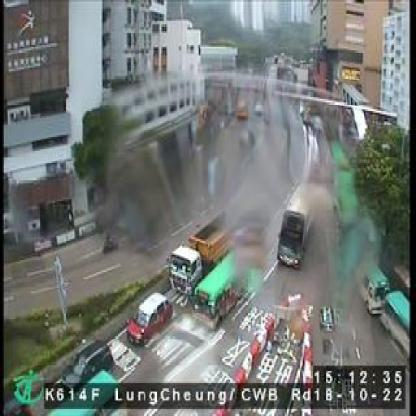Bus: (278, 178, 320, 270)
Car: (64, 337, 115, 391), (127, 292, 174, 348)
Minibus: (191, 253, 247, 331), (380, 289, 412, 355), (359, 262, 387, 316)
Truck: (168, 216, 230, 294)
